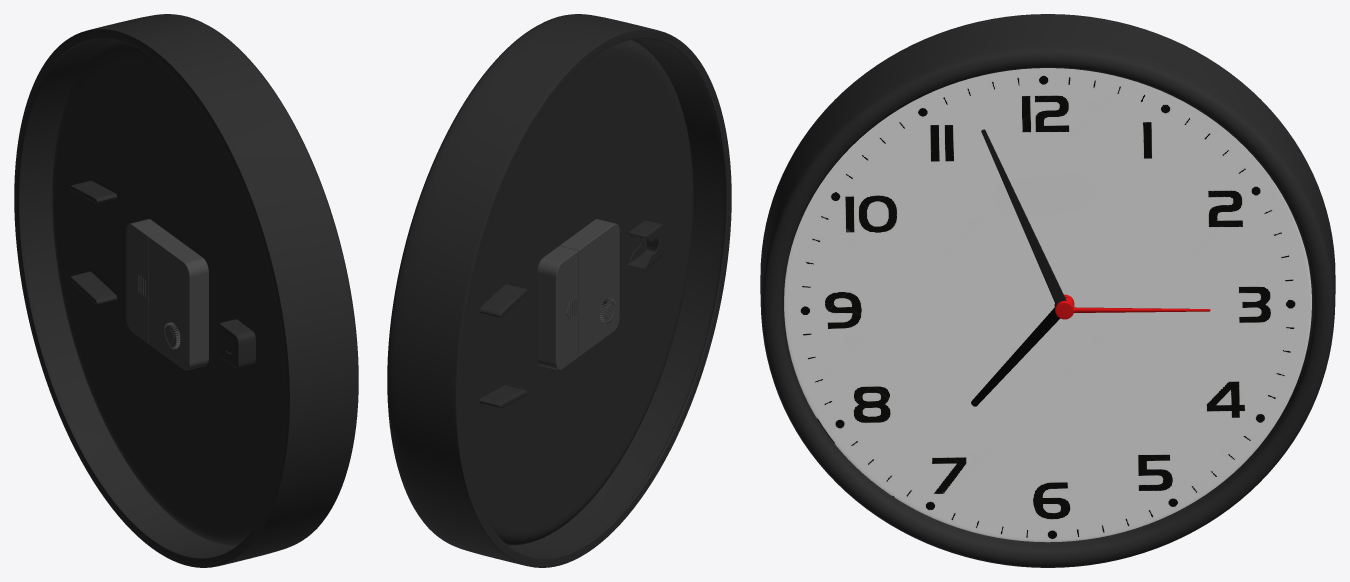
Rendered from saat.fbx.
3 renders of one model, left to right at view 1: azimuth 30°, elevation 25°; view 2: azimuth 150°, elevation 25°; view 3: azimuth 270°, elevation 25°, orthographic. The views are drawn at different scales.
Visible parts, largest first — view 1: Circle.005, Circle.003; view 2: Circle.005, Circle.003; view 3: Circle.004, Circle.005, Cylinder.011, Cylinder.010, Cylinder.
Boxes of the visible parts, bbox=[...] form: Circle.005: bbox=[14, 14, 358, 567]; Circle.003: bbox=[126, 219, 208, 370]; Circle.005: bbox=[387, 14, 731, 567]; Circle.003: bbox=[537, 219, 619, 370]; Circle.004: bbox=[784, 68, 1311, 542]; Circle.005: bbox=[760, 14, 1335, 567]; Cylinder.011: bbox=[981, 129, 1066, 311]; Cylinder.010: bbox=[971, 297, 1067, 406]; Cylinder: bbox=[1055, 294, 1210, 319].
Size of the model in its own units: 3.79 by 24.84 by 24.84.
6 materials, 1 textured.
